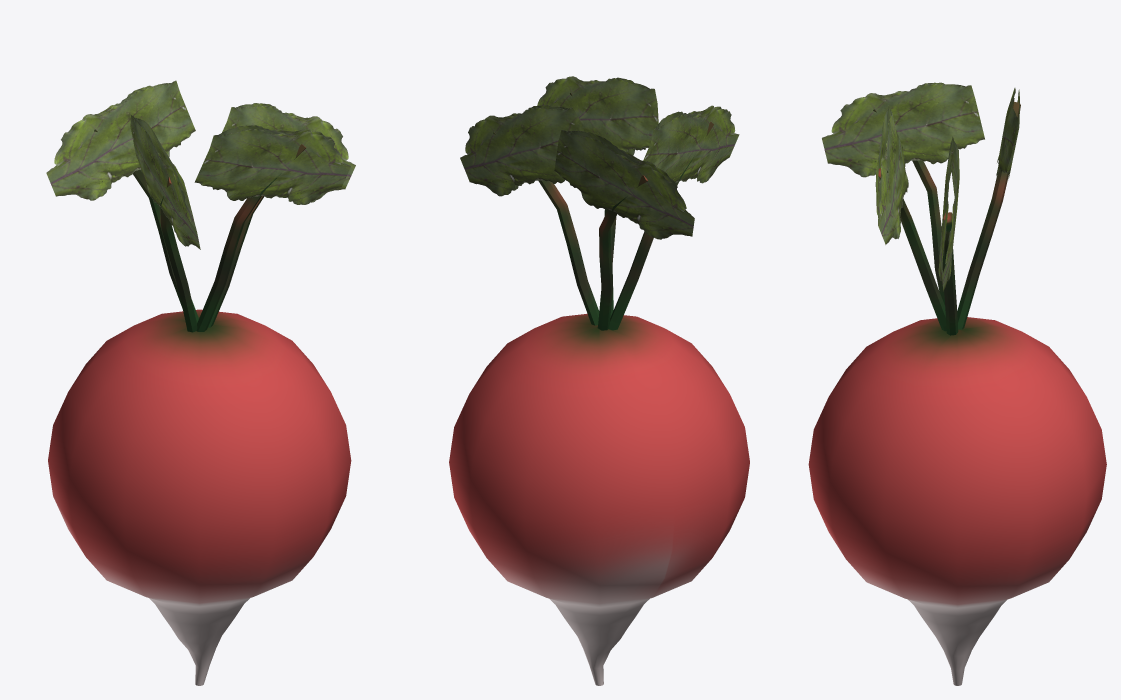
The model's file is radish_1.fbx.
3 renders of one model, left to right at view 1: azimuth 30°, elevation 25°; view 2: azimuth 150°, elevation 25°; view 3: azimuth 270°, elevation 25°, orthographic.
Visible parts, largest first — view 1: radish:radish:radish, radish:radish:leaf5_radish:radish:stem; view 2: radish:radish:radish, radish:radish:leaf5_radish:radish:stem; view 3: radish:radish:radish, radish:radish:leaf5_radish:radish:stem.
Part boxes in pixels (x1=…): radish:radish:radish: x1=48, y1=309, x2=351, y2=685; radish:radish:leaf5_radish:radish:stem: x1=46, y1=80, x2=355, y2=332; radish:radish:radish: x1=449, y1=313, x2=749, y2=685; radish:radish:leaf5_radish:radish:stem: x1=460, y1=76, x2=739, y2=330; radish:radish:radish: x1=808, y1=317, x2=1106, y2=685; radish:radish:leaf5_radish:radish:stem: x1=822, y1=82, x2=1020, y2=335.
Bounding box in the file's own units: 15.52 × 28.64 × 12.65.
